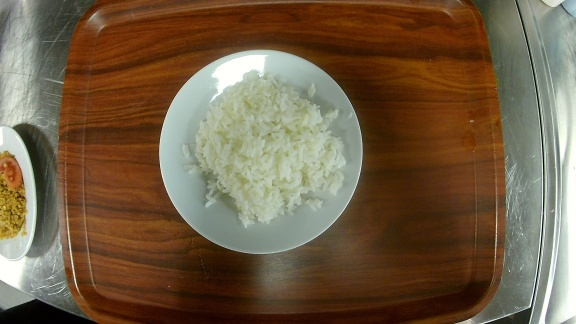pilav: (158, 49, 364, 254)
